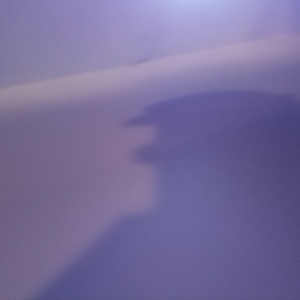dead_ball: (22, 97, 279, 300)
